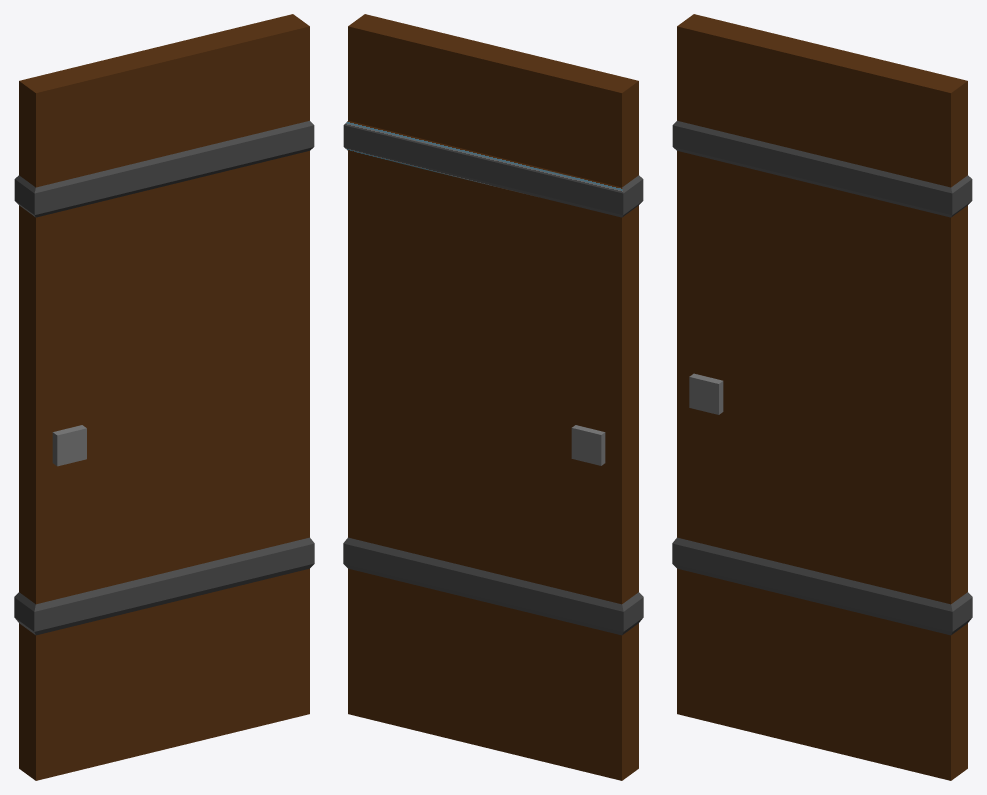
Rendered from Door02.fbx.
3 views of the same model, side by side, from view 1: azimuth 30°, elevation 25°; view 2: azimuth 150°, elevation 25°; view 3: azimuth 330°, elevation 25° (orthographic).
Visible parts, largest first — view 1: MBS_City_Door; view 2: MBS_City_Door; view 3: MBS_City_Door.
Boxes of the visible parts, bbox=[...] form: MBS_City_Door: bbox=[14, 14, 314, 780]; MBS_City_Door: bbox=[343, 14, 643, 780]; MBS_City_Door: bbox=[672, 14, 972, 780].
Bounding box in the file's own units: 81.39 × 191 × 12.75.
